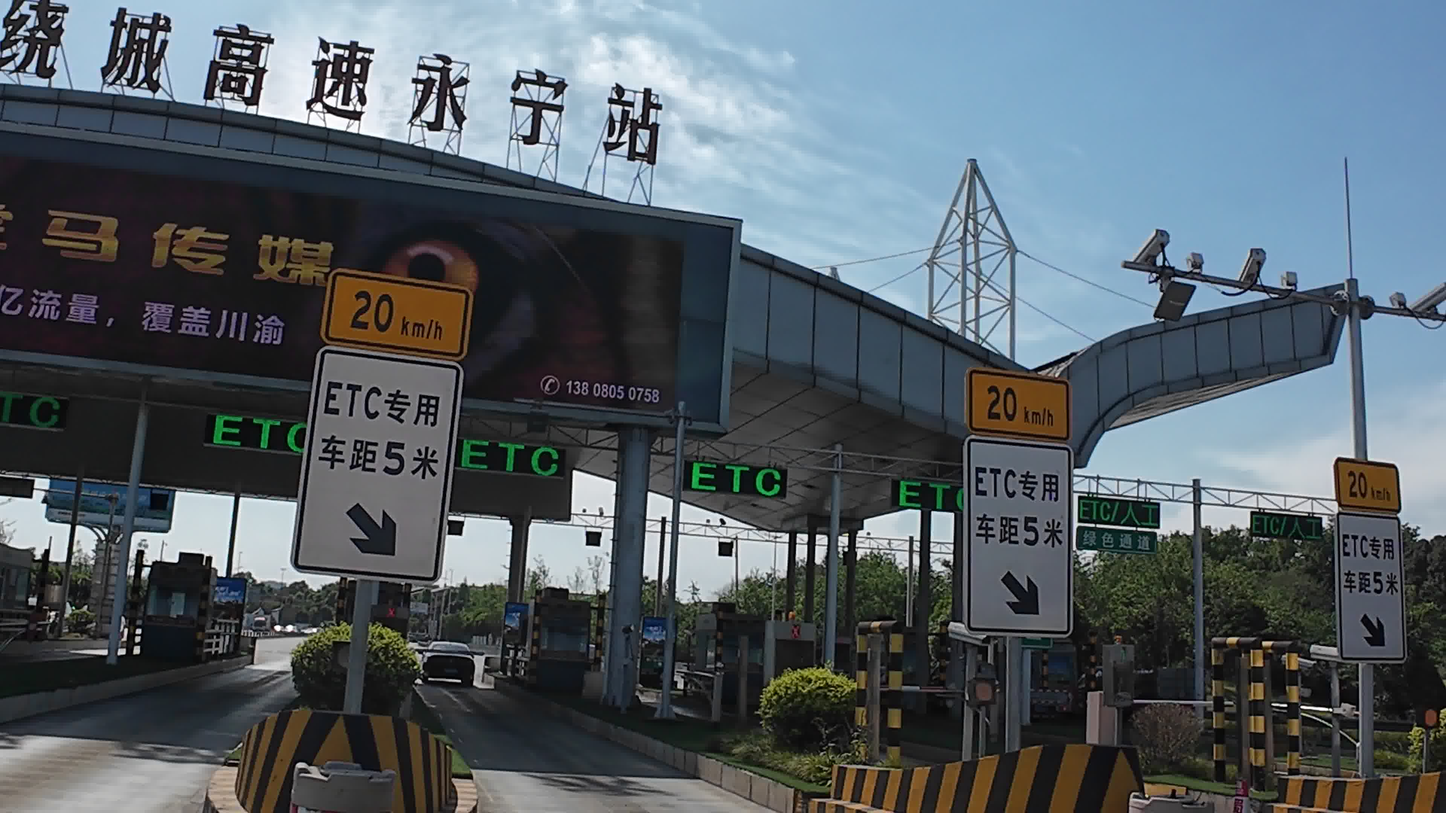anti_collision_bucket: (289, 745, 416, 813)
led_screen: (0, 110, 728, 429), (756, 611, 841, 681), (677, 459, 793, 504), (466, 433, 565, 472), (907, 479, 998, 508), (1076, 494, 1166, 521), (210, 418, 313, 441), (642, 607, 669, 684), (1248, 509, 1322, 532), (497, 595, 533, 640), (220, 573, 250, 620)
roadside_plant: (1051, 516, 1200, 674), (1204, 527, 1367, 655), (765, 546, 972, 622), (294, 618, 412, 707), (761, 651, 859, 755)
toll_booth: (149, 546, 224, 669), (531, 583, 593, 707), (714, 609, 751, 706)
warning_sign: (302, 270, 464, 565), (968, 368, 1065, 636), (1331, 456, 1408, 655), (1087, 528, 1148, 557)
